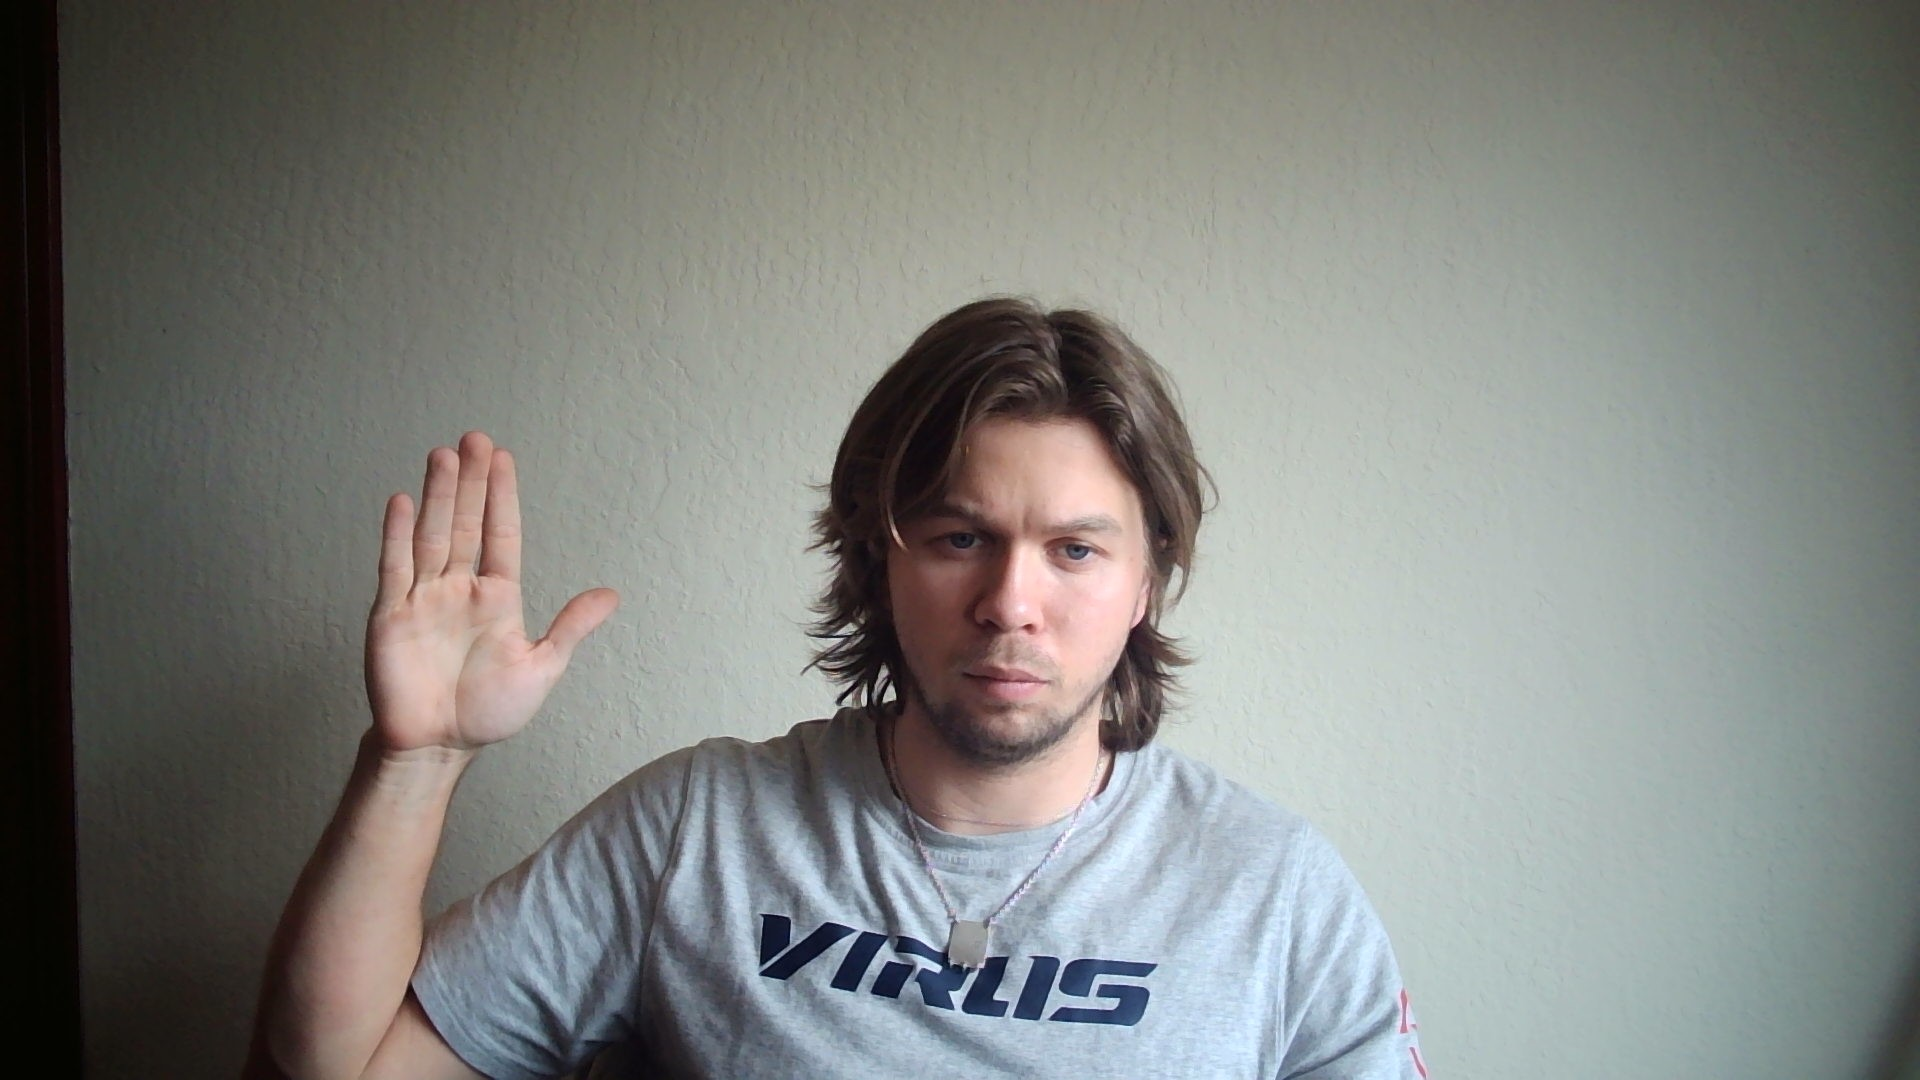hello: (367, 430, 620, 752)
